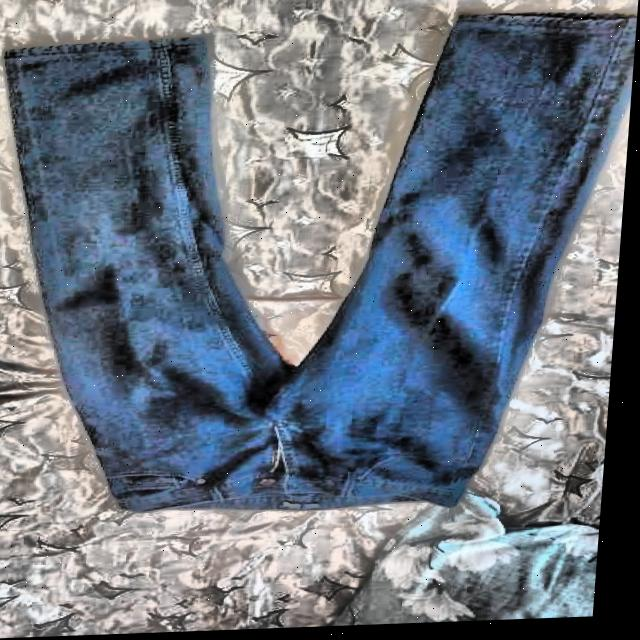clothes: (0, 3, 638, 526)
